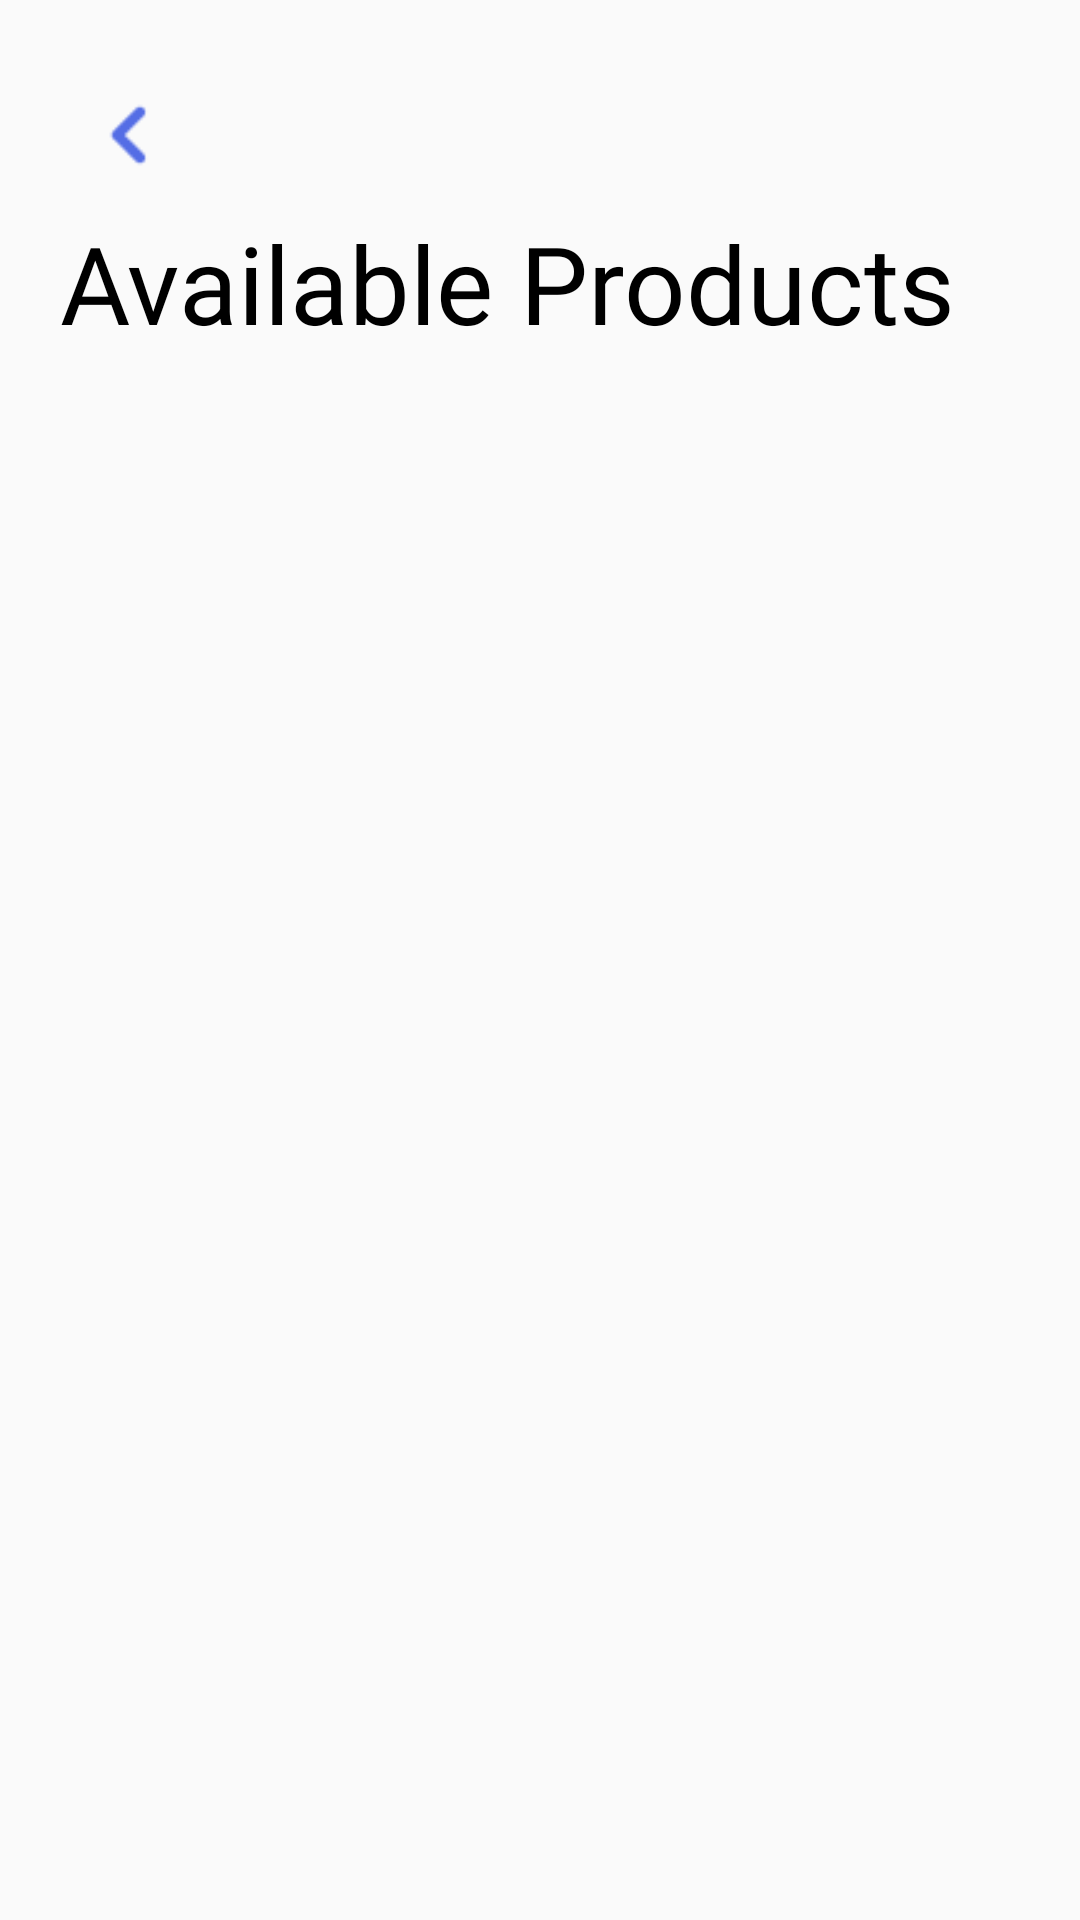

Icon bounding boxes for this 1080x1920 phone screenshot, format [left=x1, top=y1, right=x2, bottom=y2]:
back: [left=110, top=106, right=146, bottom=164]
